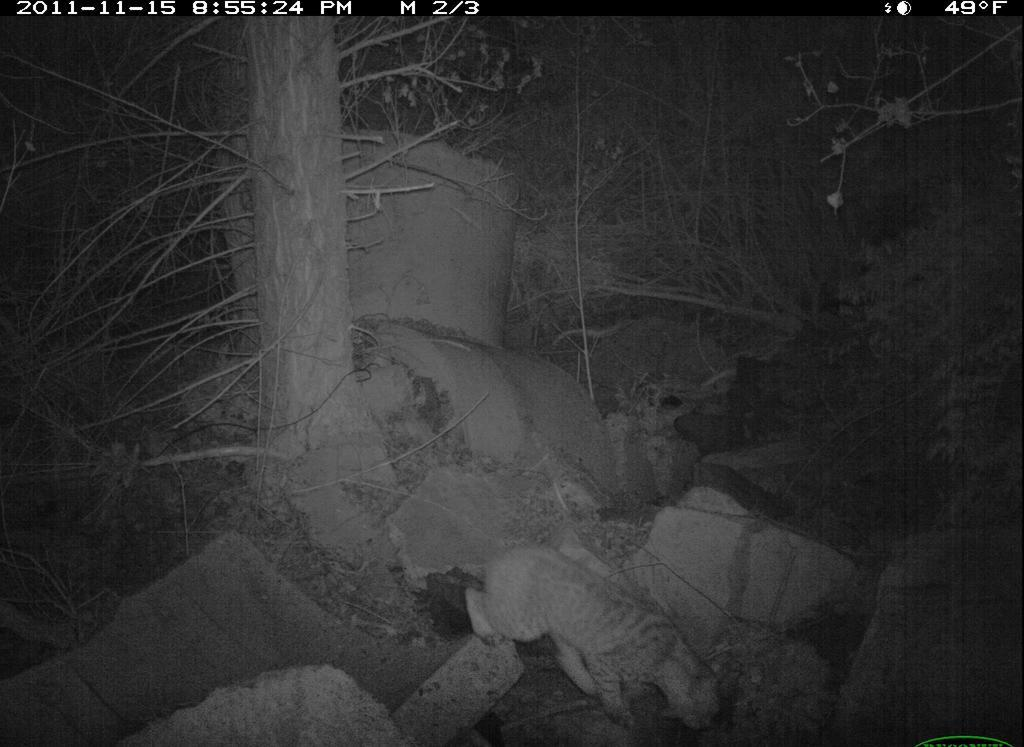bobcat: (457, 527, 731, 735)
